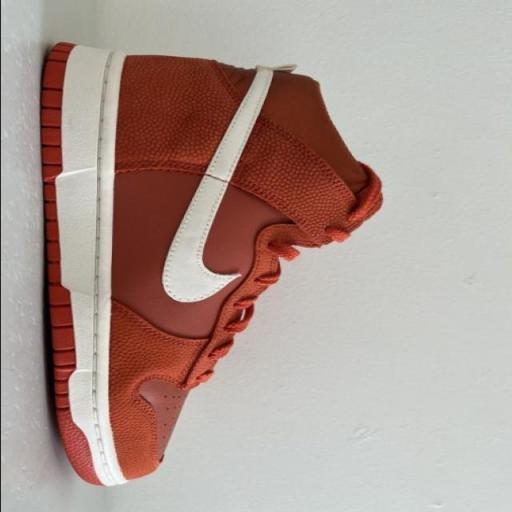Nike: (156, 64, 276, 304)
